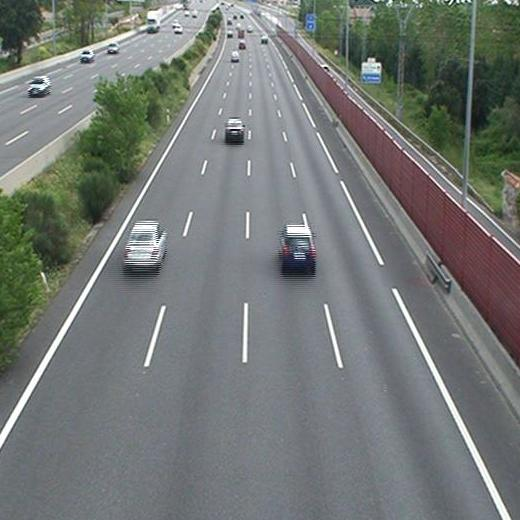car: (124, 222, 167, 266), (279, 226, 314, 266), (225, 119, 245, 139), (230, 51, 240, 61)
